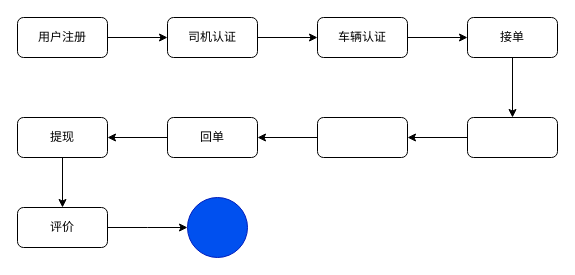
Some shapes in this 575 by 275 pixel diagram are drawn without their labels. The shapes that lost their labels are listed below. From the top down, each one's centre as x and y in pixels, then its label:
At pixel 362 137: "卸货".
At pixel 512 137: "装货".
At pixel 217 227: "完成".
